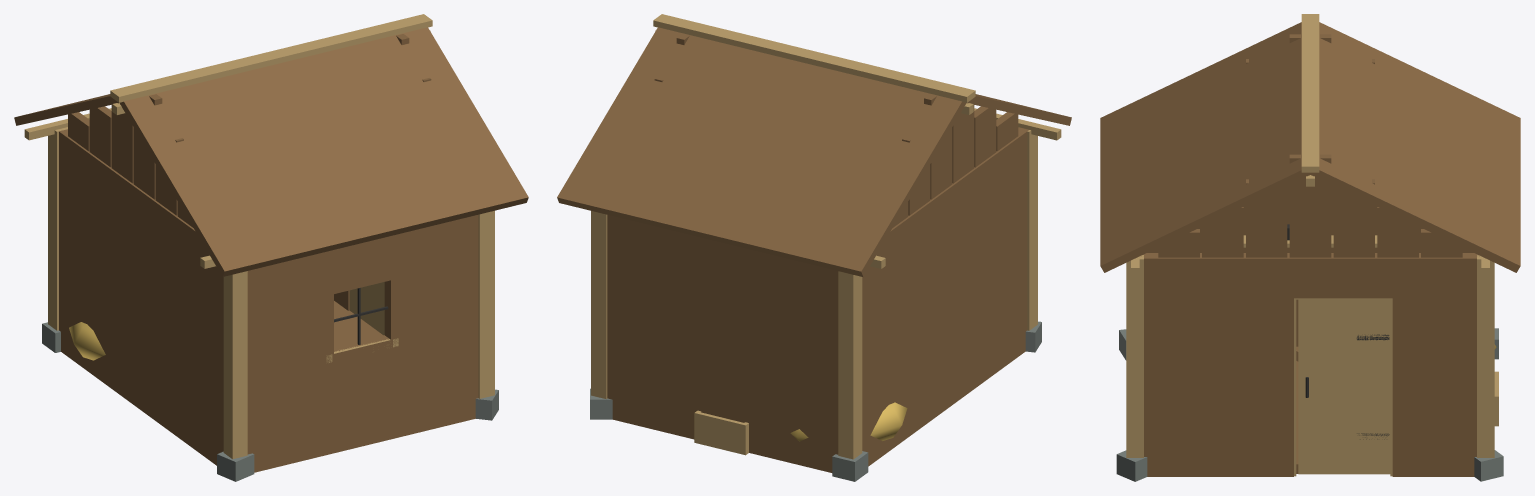
Rendered from utility-shed.glb.
The picture shows the model from 3 angles, left to right: view 1: azimuth 30°, elevation 25°; view 2: azimuth 150°, elevation 25°; view 3: azimuth 270°, elevation 25°; orthographic projection.
Visible parts, largest first — view 1: Mesh_RoofA, Mesh_Shed_Room_WallBack, Mesh_Shed_Room_WallRight_R, Mesh_Shed_Room_WallRight_L, Mesh_Shed_Room_WallRight_Sill, Mesh_Roof_Ridge_Cap, Mesh_CornerPost_1, Mesh_CornerPost_3, Mesh_Shed_Room_WallRight_Lintel, Mesh_CornerPost_0, Mesh_Gable_Back_Board_2, Mesh_DoorPanel (+9 smaller); view 2: Mesh_RoofB, Mesh_Shed_Room_WallLeft, Mesh_Shed_Room_WallBack, Mesh_Roof_Ridge_Cap, Mesh_CornerPost_0, Mesh_CornerPost_2, Mesh_CornerPost_1, Mesh_Trough_Wall_B, Mesh_Gable_Back_Board_4, Mesh_Gable_Back_Board_5, Mesh_Gable_Back_Board_3, Mesh_RoofA (+5 smaller); view 3: Mesh_Shed_Room_WallFront_R, Mesh_RoofA, Mesh_RoofB, Mesh_Shed_Room_WallFront_L, Mesh_DoorPanel, Mesh_Shed_Room_WallFront_Lintel, Mesh_CornerPost_2, Mesh_CornerPost_3, Mesh_Gable_Front_Board_3, Mesh_Roof_Ridge_Cap, Mesh_Gable_Front_Board_2, Mesh_Gable_Front_Board_4 (+9 smaller).
Boxes of the visible parts, bbox=[...] form: Mesh_RoofA: bbox=[119, 27, 528, 276]; Mesh_Shed_Room_WallBack: bbox=[59, 129, 223, 465]; Mesh_Shed_Room_WallRight_R: bbox=[384, 214, 478, 438]; Mesh_Shed_Room_WallRight_L: bbox=[247, 250, 333, 472]; Mesh_Shed_Room_WallRight_Sill: bbox=[332, 335, 392, 453]; Mesh_Roof_Ridge_Cap: bbox=[110, 14, 432, 102]; Mesh_CornerPost_1: bbox=[223, 271, 247, 459]; Mesh_CornerPost_3: bbox=[478, 210, 494, 398]; Mesh_Shed_Room_WallRight_Lintel: bbox=[332, 235, 392, 294]; Mesh_CornerPost_0: bbox=[48, 127, 67, 330]; Mesh_Gable_Back_Board_2: bbox=[111, 105, 133, 183]; Mesh_DoorPanel: bbox=[349, 282, 384, 335]; Mesh_RoofB: bbox=[557, 27, 966, 276]; Mesh_Shed_Room_WallLeft: bbox=[607, 215, 838, 472]; Mesh_Shed_Room_WallBack: bbox=[862, 127, 1028, 466]; Mesh_Roof_Ridge_Cap: bbox=[653, 14, 975, 102]; Mesh_CornerPost_0: bbox=[838, 271, 862, 459]; Mesh_CornerPost_2: bbox=[591, 211, 607, 398]; Mesh_CornerPost_1: bbox=[1027, 130, 1037, 330]; Mesh_Trough_Wall_B: bbox=[694, 411, 747, 455]; Mesh_Gable_Back_Board_4: bbox=[952, 105, 974, 183]; Mesh_Gable_Back_Board_5: bbox=[974, 106, 996, 167]; Mesh_Gable_Back_Board_3: bbox=[924, 94, 952, 199]; Mesh_RoofA: bbox=[967, 94, 1071, 125]; Mesh_Shed_Room_WallFront_R: bbox=[1140, 253, 1293, 476]; Mesh_RoofA: bbox=[1100, 22, 1312, 272]; Mesh_RoofB: bbox=[1309, 22, 1520, 272]; Mesh_Shed_Room_WallFront_L: bbox=[1392, 253, 1479, 476]; Mesh_DoorPanel: bbox=[1298, 299, 1390, 474]; Mesh_Shed_Room_WallFront_Lintel: bbox=[1292, 253, 1394, 298]; Mesh_CornerPost_2: bbox=[1477, 255, 1494, 457]; Mesh_CornerPost_3: bbox=[1126, 255, 1143, 457]; Mesh_Gable_Front_Board_3: bbox=[1289, 154, 1331, 257]; Mesh_Roof_Ridge_Cap: bbox=[1301, 14, 1319, 172]; Mesh_Gable_Front_Board_2: bbox=[1333, 179, 1374, 257]; Mesh_Gable_Front_Board_4: bbox=[1246, 179, 1287, 257].
Size of what is drawn, in the model's own units: 3.3 by 3.26 by 3.84.
1 material, 1 textured.
